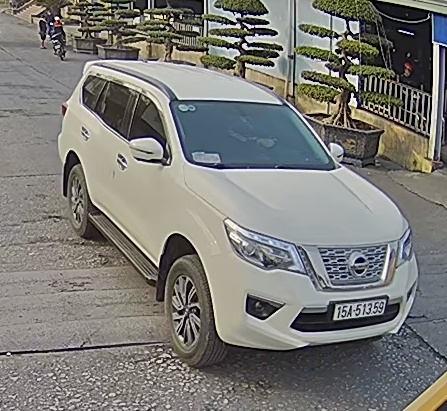vehicle plate: (329, 299, 392, 324)
